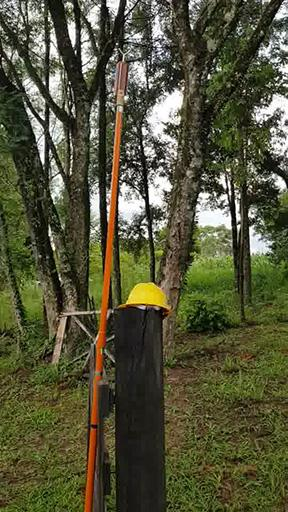Vara_Manobra: (84, 100, 125, 512), (112, 47, 131, 98)
